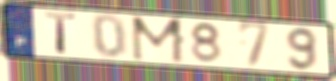0: (90, 13, 129, 60)
7: (236, 20, 272, 72)
8: (189, 21, 224, 65)
9: (284, 26, 320, 72)
M: (129, 14, 187, 65)
T: (43, 11, 79, 56)
